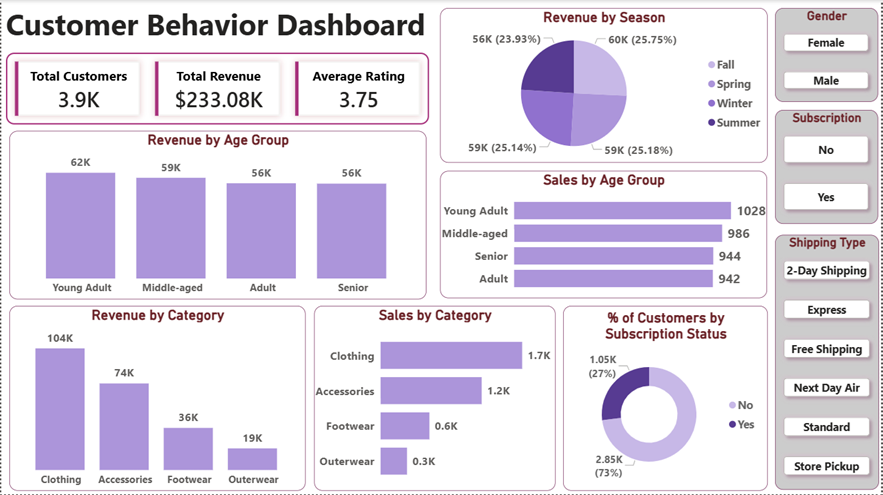

The page's visual inventory and layout, read from the dashboard file:
{"tool":"powerbi","page":{"name":"Dashboard","canvas":[1280,720],"ordinal":0},"visuals":[{"type":"textbox","box":[1.6,0,638,71.2],"z":0},{"type":"donutChart","title":"% of Customers by Subscription Status","fields":{"Category":["public customer.subscription_status"],"Y":["CountNonNull(public customer.customer_id)"]},"box":[817.7,446,298.3,269.5],"z":1000},{"type":"columnChart","title":"Revenue by Age Group","fields":{"Category":["public customer.age_group"],"Y":["Sum(public customer.purchase_amount)"]},"box":[12.1,190.8,607.2,245.3],"z":2000},{"type":"columnChart","title":"Revenue by Category","fields":{"Category":["public customer.category"],"Y":["Sum(public customer.purchase_amount)"]},"box":[12,446,431.5,269.5],"z":3000},{"type":"advancedSlicerVisual","title":"Gender","fields":{"Values":["public customer.gender"]},"box":[1126.6,11.6,149.9,136.8],"z":4000},{"type":"barChart","title":"Sales by Category","fields":{"Category":["public customer.category"],"Y":["public customer.Total Customers"]},"box":[455.8,446,351.3,269.5],"z":5000},{"type":"advancedSlicerVisual","title":"Subscription","fields":{"Values":["public customer.subscription_status"]},"box":[1126.6,160.1,149.9,165.9],"z":6000},{"type":"advancedSlicerVisual","title":"Shipping Type","fields":{"Values":["public customer.shipping_type"]},"box":[1127,342.1,151.4,371.2],"z":7000},{"type":"barChart","title":"Sales by Age Group","fields":{"Category":["public customer.age_group"],"Y":["CountNonNull(public customer.customer_id)"]},"box":[639,248.9,476,185],"z":8000},{"type":"pieChart","title":"Revenue by Season","fields":{"Category":["public customer.season"],"Y":["Sum(public customer.purchase_amount)"]},"box":[639,12.1,477,225.6],"z":9000},{"type":"cardVisual","fields":{"Data":["public customer.Number of Customers","public customer.Total Revenue","public customer.Average Review Rating"]},"box":[1.5,71.2,626.9,115.1],"z":10000}]}

Visuals, with their boxes in screenshot pixels (x1, y1, x2, y2), scaled from the page's 1280x720 canvas onto the 883x495 screenshot:
textbox: Rect(1, 0, 441, 49)
"% of Customers by Subscription Status" donutChart: Rect(564, 307, 770, 492)
"Revenue by Age Group" columnChart: Rect(8, 131, 427, 300)
"Revenue by Category" columnChart: Rect(8, 307, 306, 492)
"Gender" advancedSlicerVisual: Rect(777, 8, 881, 102)
"Sales by Category" barChart: Rect(314, 307, 557, 492)
"Subscription" advancedSlicerVisual: Rect(777, 110, 881, 224)
"Shipping Type" advancedSlicerVisual: Rect(777, 235, 882, 490)
"Sales by Age Group" barChart: Rect(441, 171, 769, 298)
"Revenue by Season" pieChart: Rect(441, 8, 770, 163)
cardVisual - public customer.Number of Customers x public customer.Total Revenue: Rect(1, 49, 433, 128)
